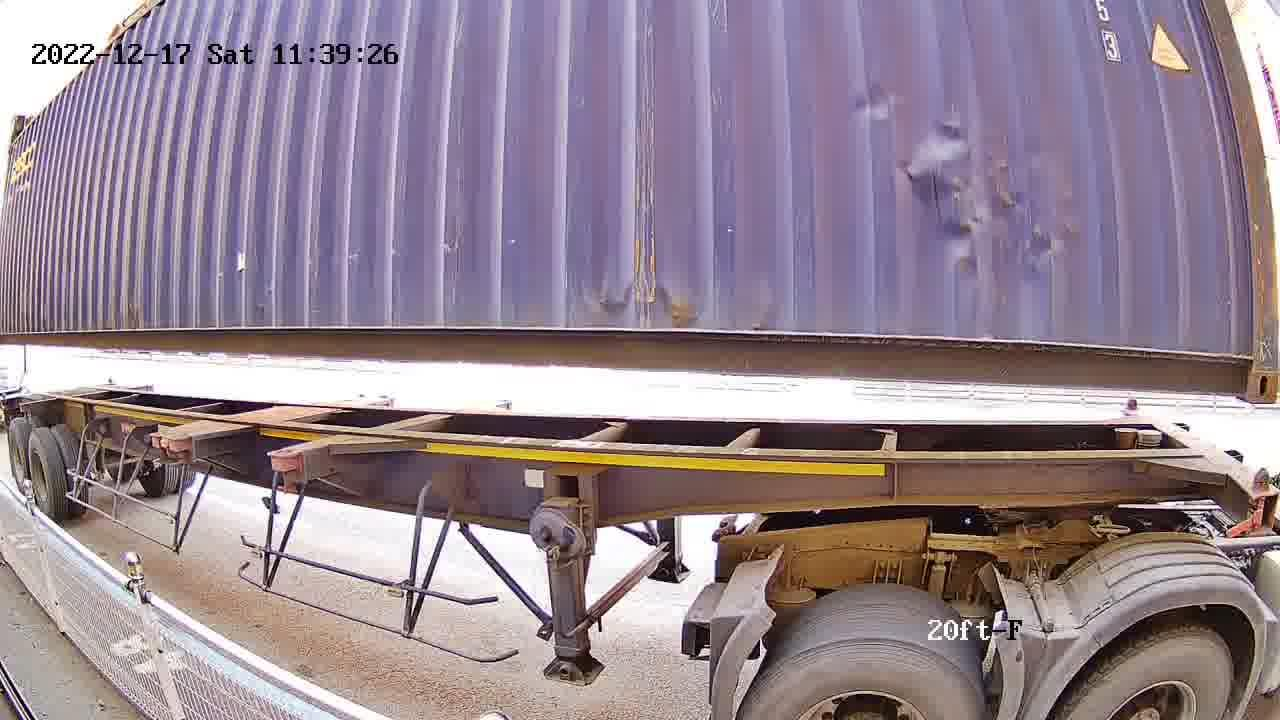Chassis: (1120, 406, 1279, 501)
Cone: (1243, 462, 1275, 533), (1115, 393, 1149, 415)
Hole_R: (1201, 317, 1278, 401)
Tire: (740, 640, 983, 719), (1062, 629, 1232, 711), (28, 436, 53, 509), (8, 426, 25, 480)
